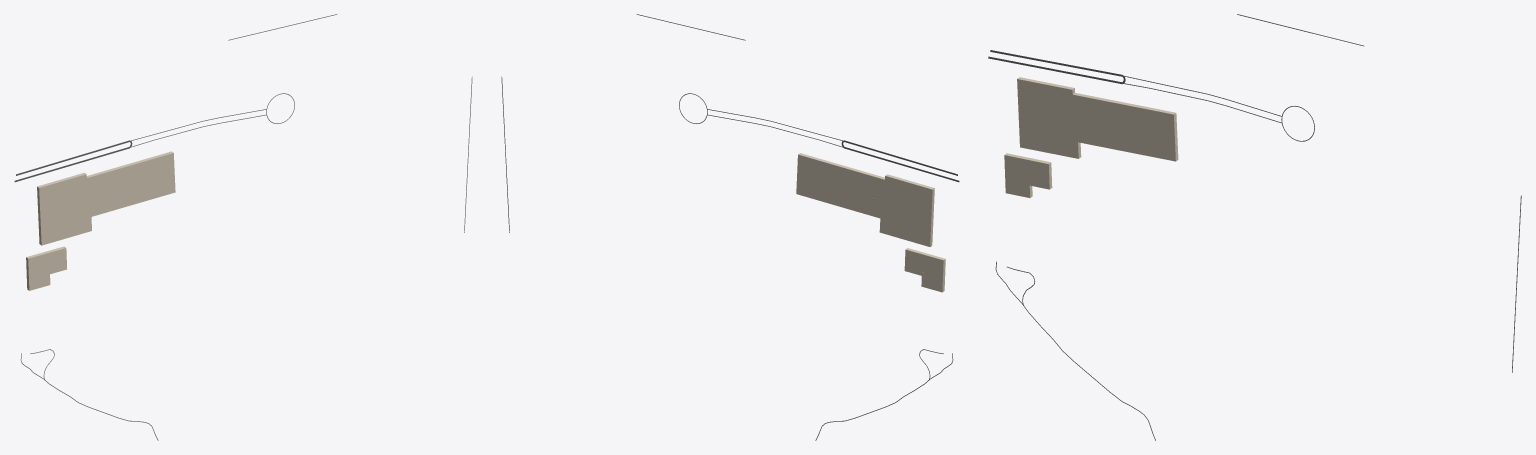
Rendered from historic-palestine-06_21_3479_3158.glb.
3 renders of one model, left to right at view 1: azimuth 30°, elevation 25°; view 2: azimuth 150°, elevation 25°; view 3: azimuth 330°, elevation 25°, orthographic. The views are drawn at different scales.
Parts seen in each view (by area): view 1: Building_, Building_.001; view 2: Building_, Building_.001; view 3: Building_, Building_.001.
Boxes of the visible parts, box(x1,y1,x2,y2) form: Building_: box(37, 151, 175, 245); Building_.001: box(26, 246, 67, 290); Building_: box(796, 153, 934, 246); Building_.001: box(904, 248, 945, 292); Building_: box(1017, 77, 1178, 161); Building_.001: box(1004, 153, 1052, 197).
Size of the model in its own units: 916 by 734 by 8.7.
